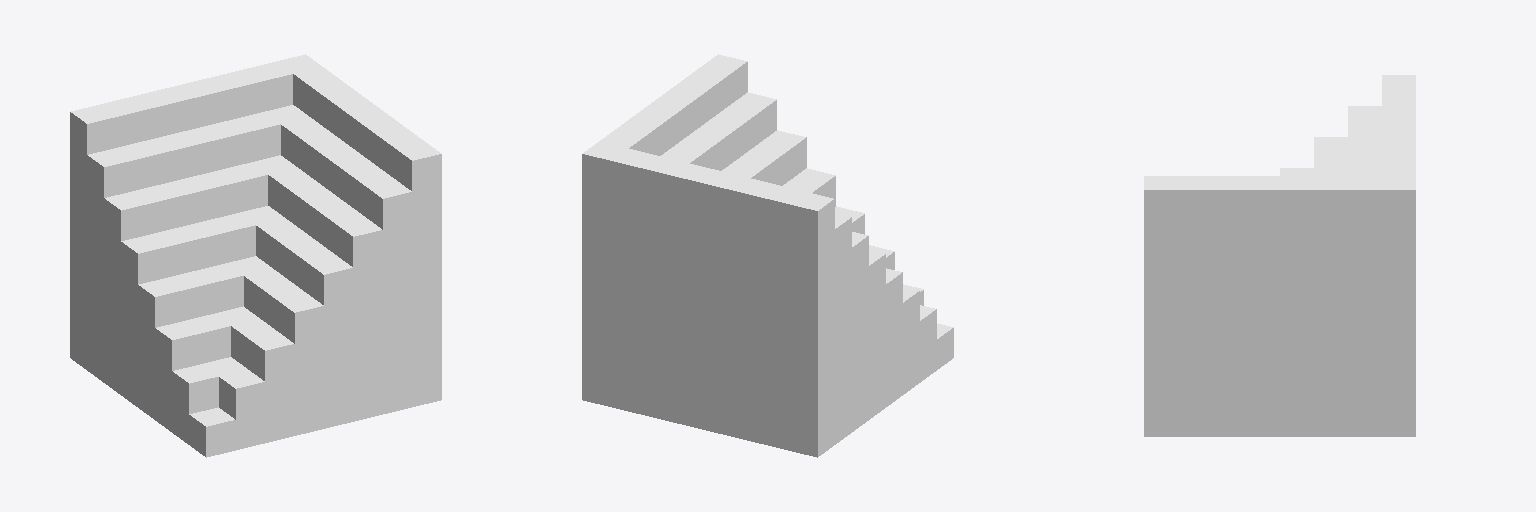
Rendered from SlopedInwardCornerSnowTile.obj.
3 renders of one model, left to right at view 1: azimuth 30°, elevation 25°; view 2: azimuth 150°, elevation 25°; view 3: azimuth 270°, elevation 25°, orthographic.
Visible parts, largest first — view 1: object 1; view 2: object 1; view 3: object 1.
Part boxes in pixels (bbox=[...]): object 1: bbox=[70, 54, 441, 457]; object 1: bbox=[582, 54, 953, 457]; object 1: bbox=[1144, 75, 1415, 436].
Bounding box in the file's own units: 0.8 × 0.8 × 0.8.